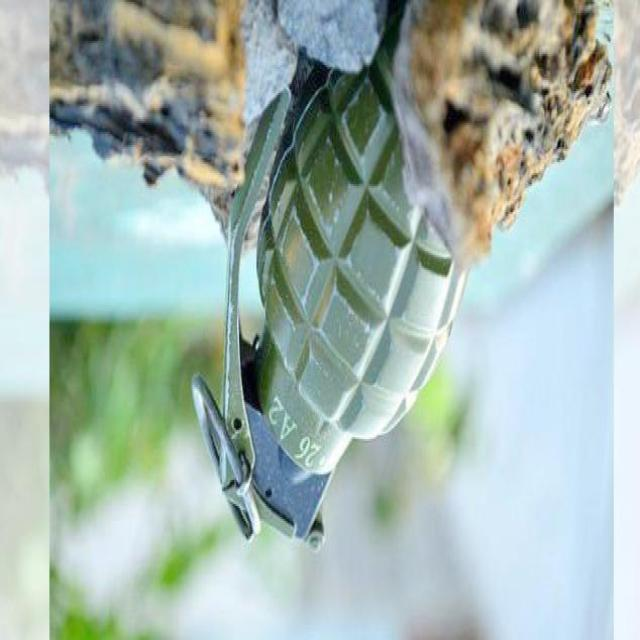grenade: (192, 29, 471, 554)
